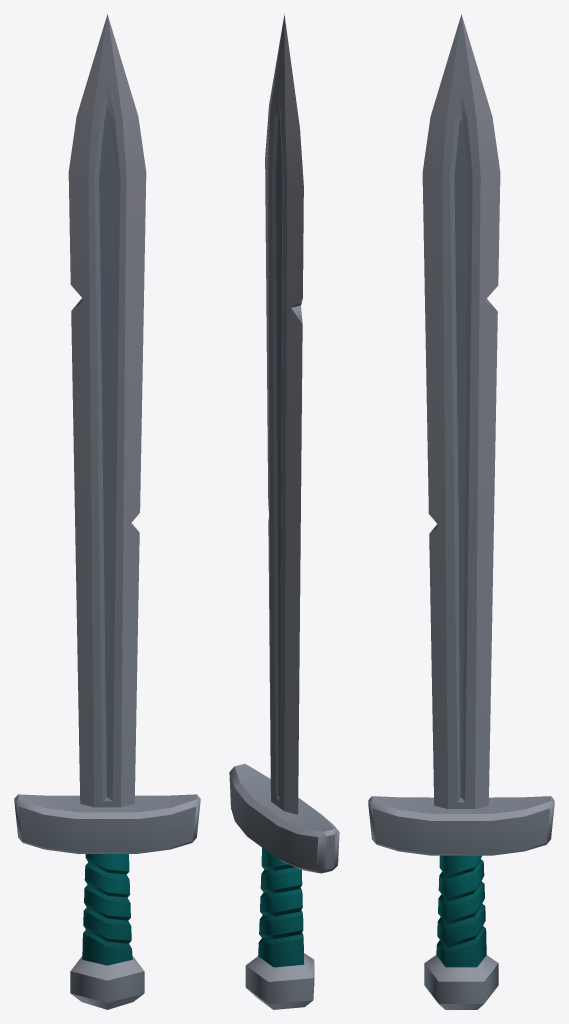
File: Sword_1_B.glb
3 views of the same model, side by side, from view 1: azimuth 90°, elevation 25°; view 2: azimuth 210°, elevation 25°; view 3: azimuth 270°, elevation 25° (orthographic).
Parts seen in each view (by area): view 1: Sword_1_B; view 2: Sword_1_B; view 3: Sword_1_B.
Boxes of the visible parts, bbox=[...] form: Sword_1_B: bbox=[14, 14, 200, 1009]; Sword_1_B: bbox=[229, 14, 339, 1009]; Sword_1_B: bbox=[368, 14, 554, 1009].
Size of the model in its own units: 0.0843 by 1.39 by 0.2376.
2 materials, 2 textured.
